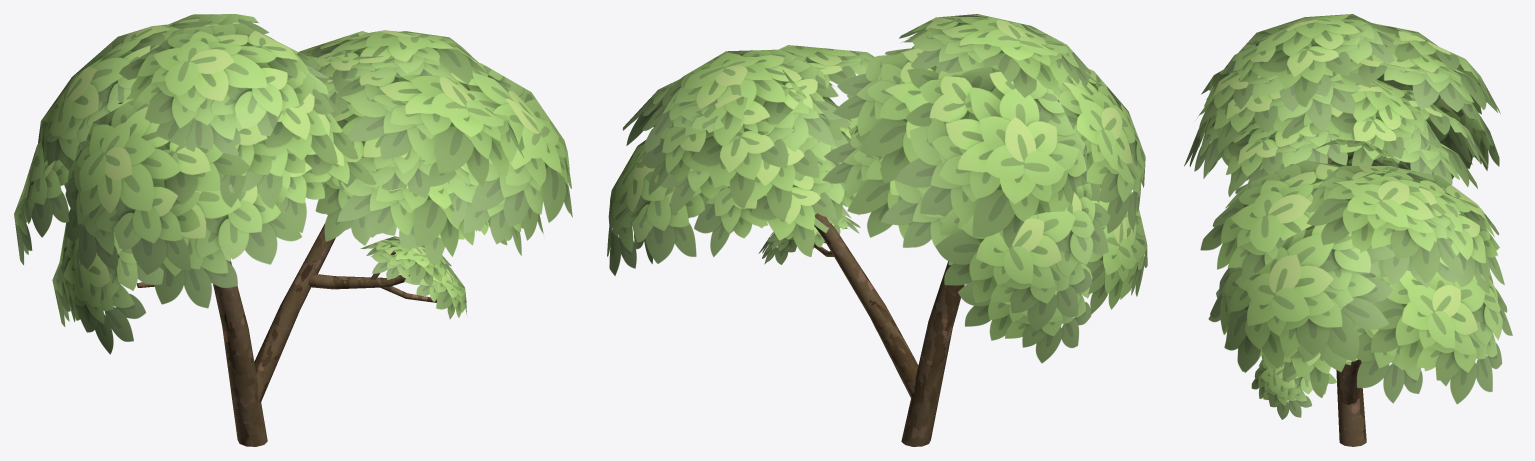
File: Tree_8.glb
The picture shows the model from 3 angles, left to right: view 1: azimuth 30°, elevation 25°; view 2: azimuth 150°, elevation 25°; view 3: azimuth 270°, elevation 25°; orthographic projection. The views are drawn at different scales.
Visible parts, largest first — view 1: Tree_8; view 2: Tree_8; view 3: Tree_8.
Boxes of the visible parts, left/top/right/bottom form: Tree_8: left=14, top=14, right=572, bottom=446; Tree_8: left=607, top=14, right=1147, bottom=446; Tree_8: left=1184, top=14, right=1512, bottom=446.
Bounding box in the file's own units: 6.94 × 5.52 × 4.39.
2 materials, 2 textured.
